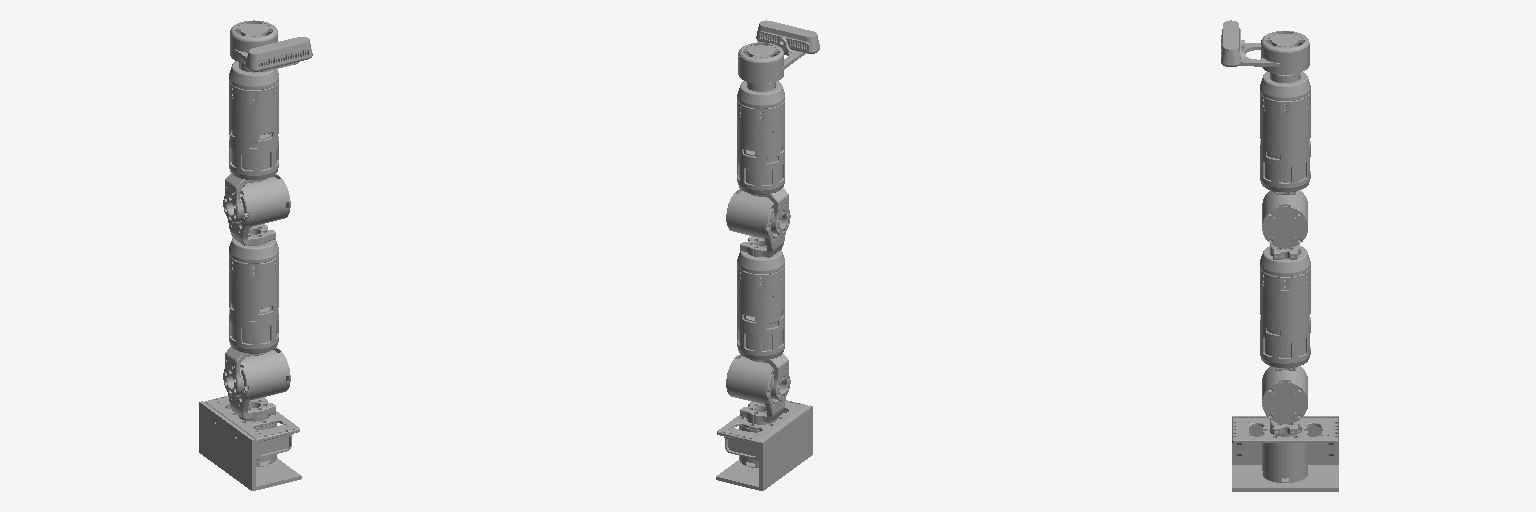
URDF robot description (superarm_j1_j2):
<?xml version='1.0' encoding='utf-8'?>
<robot name="superarm_j1_j2">
  <material name="silver">
    <color rgba="0.700 0.700 0.700 1.000" />
  </material>
  <link name="base_link">
    <inertial>
      <origin rpy="0 0 0" xyz="-0.0558674021870757 0.28278890754312125 0.028709994821850306" />
      <mass value="0.7039445905990487" />
      <inertia ixx="0.001356" ixy="0.0" ixz="0.000203" iyy="0.00068" iyz="-0.0" izz="0.001369" />
    </inertial>
    <visual>
      <origin rpy="0 0 0" xyz="0 0 0" />
      <geometry>
        <mesh filename="meshes/base_link.stl" scale="0.001 0.001 0.001" />
      </geometry>
      <material name="silver" />
    </visual>
    <collision>
      <origin rpy="0 0 0" xyz="0 0 0" />
      <geometry>
        <mesh filename="meshes/base_link.stl" scale="0.001 0.001 0.001" />
      </geometry>
    </collision>
  </link>
  <link name="arm_link5">
    <inertial>
      <origin rpy="0 0 0" xyz="-0.010582096735445613 -1.2838723623120885e-07 0.02599163424978511" />
      <mass value="0.08293040148164792" />
      <inertia ixx="6.1e-05" ixy="0.0" ixz="1.7e-05" iyy="6.4e-05" iyz="0.0" izz="3.1e-05" />
    </inertial>
    <visual>
      <origin rpy="0 0 0" xyz="0.035112 -0.282649 -0.076269" />
      <geometry>
        <mesh filename="meshes/arm_link5.stl" scale="0.001 0.001 0.001" />
      </geometry>
      <material name="silver" />
    </visual>
    <collision>
      <origin rpy="0 0 0" xyz="0.035112 -0.282649 -0.076269" />
      <geometry>
        <mesh filename="meshes/arm_link5.stl" scale="0.001 0.001 0.001" />
      </geometry>
    </collision>
  </link>
  <link name="arm_link2">
    <inertial>
      <origin rpy="0 0 0" xyz="0.0037734834026437528 1.7321857116836537e-05 0.02410973385257012" />
      <mass value="0.0758319055106308" />
      <inertia ixx="4e-05" ixy="0.0" ixz="-1.6e-05" iyy="5e-05" iyz="0.0" izz="2.5e-05" />
    </inertial>
    <visual>
      <origin rpy="0 0 0" xyz="0.055112 -0.282649 -0.132269" />
      <geometry>
        <mesh filename="meshes/arm_link2.stl" scale="0.001 0.001 0.001" />
      </geometry>
      <material name="silver" />
    </visual>
    <collision>
      <origin rpy="0 0 0" xyz="0.055112 -0.282649 -0.132269" />
      <geometry>
        <mesh filename="meshes/arm_link2.stl" scale="0.001 0.001 0.001" />
      </geometry>
    </collision>
  </link>
  <link name="motor_3">
    <inertial>
      <origin rpy="0 0 0" xyz="-7.919796516621391e-05 -1.387684520626209e-07 0.026854961914072523" />
      <mass value="1.0147152606862302" />
      <inertia ixx="0.000431" ixy="-0.0" ixz="2e-06" iyy="0.000433" iyz="0.0" izz="0.000412" />
    </inertial>
    <visual>
      <origin rpy="0 0 0" xyz="0.035112 -0.282649 -0.182269" />
      <geometry>
        <mesh filename="meshes/motor_3.stl" scale="0.001 0.001 0.001" />
      </geometry>
      <material name="silver" />
    </visual>
    <collision>
      <origin rpy="0 0 0" xyz="0.035112 -0.282649 -0.182269" />
      <geometry>
        <mesh filename="meshes/motor_3.stl" scale="0.001 0.001 0.001" />
      </geometry>
    </collision>
  </link>
  <link name="arm_link3">
    <inertial>
      <origin rpy="0 0 0" xyz="0.021842495434319292 -0.012437597905729458 0.05021462218112094" />
      <mass value="0.15642869189670372" />
      <inertia ixx="0.000316" ixy="-1e-06" ixz="-0.0" iyy="0.000316" iyz="0.0" izz="0.000135" />
    </inertial>
    <visual>
      <origin rpy="0 0 0" xyz="0.056762 -0.295149 -0.184019" />
      <geometry>
        <mesh filename="meshes/arm_link3.stl" scale="0.001 0.001 0.001" />
      </geometry>
      <material name="silver" />
    </visual>
    <collision>
      <origin rpy="0 0 0" xyz="0.056762 -0.295149 -0.184019" />
      <geometry>
        <mesh filename="meshes/arm_link3.stl" scale="0.001 0.001 0.001" />
      </geometry>
    </collision>
  </link>
  <link name="arm_link4">
    <inertial>
      <origin rpy="0 0 0" xyz="2.2494327479860576e-07 -1.237867585102137e-07 0.003881813929405231" />
      <mass value="0.13491456772256888" />
      <inertia ixx="5.6e-05" ixy="0.0" ixz="-0.0" iyy="5.6e-05" iyz="-0.0" izz="8.4e-05" />
    </inertial>
    <visual>
      <origin rpy="0 0 0" xyz="0.035112 -0.282649 -0.301019" />
      <geometry>
        <mesh filename="meshes/arm_link4.stl" scale="0.001 0.001 0.001" />
      </geometry>
      <material name="silver" />
    </visual>
    <collision>
      <origin rpy="0 0 0" xyz="0.035112 -0.282649 -0.301019" />
      <geometry>
        <mesh filename="meshes/arm_link4.stl" scale="0.001 0.001 0.001" />
      </geometry>
    </collision>
  </link>
  <link name="arm_link2b">
    <inertial>
      <origin rpy="0 0 0" xyz="0.0037734834026424344 1.732185711655898e-05 0.02410973385257037" />
      <mass value="0.0758319055106308" />
      <inertia ixx="4e-05" ixy="0.0" ixz="-1.6e-05" iyy="5e-05" iyz="0.0" izz="2.5e-05" />
    </inertial>
    <visual>
      <origin rpy="0 0 0" xyz="0.055112 -0.282649 -0.371019" />
      <geometry>
        <mesh filename="meshes/arm_link2b.stl" scale="0.001 0.001 0.001" />
      </geometry>
      <material name="silver" />
    </visual>
    <collision>
      <origin rpy="0 0 0" xyz="0.055112 -0.282649 -0.371019" />
      <geometry>
        <mesh filename="meshes/arm_link2b.stl" scale="0.001 0.001 0.001" />
      </geometry>
    </collision>
  </link>
  <link name="arm_link3b">
    <inertial>
      <origin rpy="0 0 0" xyz="0.00019249543431895666 -0.024937597905729192 0.05021462218112105" />
      <mass value="0.15642869189670372" />
      <inertia ixx="0.000316" ixy="-1e-06" ixz="-0.0" iyy="0.000316" iyz="0.0" izz="0.000135" />
    </inertial>
    <visual>
      <origin rpy="0 0 0" xyz="0.035112 -0.307649 -0.422769" />
      <geometry>
        <mesh filename="meshes/arm_link3b.stl" scale="0.001 0.001 0.001" />
      </geometry>
      <material name="silver" />
    </visual>
    <collision>
      <origin rpy="0 0 0" xyz="0.035112 -0.307649 -0.422769" />
      <geometry>
        <mesh filename="meshes/arm_link3b.stl" scale="0.001 0.001 0.001" />
      </geometry>
    </collision>
  </link>
  <link name="wrist_adapter_arm">
    <inertial>
      <origin rpy="0 0 0" xyz="0.006750224943071474 -0.011689222052984727 0.015439138057230184" />
      <mass value="0.058785239600396375" />
      <inertia ixx="1.2e-05" ixy="0.0" ixz="-0.0" iyy="1.2e-05" iyz="-0.0" izz="8e-06" />
    </inertial>
    <visual>
      <origin rpy="0 0 0" xyz="0.041862 -0.29434 -0.553769" />
      <geometry>
        <mesh filename="meshes/wrist_adapter_arm.stl" scale="0.001 0.001 0.001" />
      </geometry>
      <material name="silver" />
    </visual>
    <collision>
      <origin rpy="0 0 0" xyz="0.041862 -0.29434 -0.553769" />
      <geometry>
        <mesh filename="meshes/wrist_adapter_arm.stl" scale="0.001 0.001 0.001" />
      </geometry>
    </collision>
  </link>
  <link name="wrist_adapter_hand">
    <inertial>
      <origin rpy="0 0 0" xyz="-0.00035222283540382177 -0.009255509672976558 -0.005647174678873101" />
      <mass value="0.47096546496663444" />
      <inertia ixx="0.000335" ixy="-7e-06" ixz="-0.0" iyy="0.000168" iyz="-1.3e-05" izz="0.000406" />
    </inertial>
    <visual>
      <origin rpy="0 0 0" xyz="0.035112 -0.282649 -0.597769" />
      <geometry>
        <mesh filename="meshes/wrist_adapter_hand.stl" scale="0.001 0.001 0.001" />
      </geometry>
      <material name="silver" />
    </visual>
    <collision>
      <origin rpy="0 0 0" xyz="0.035112 -0.282649 -0.597769" />
      <geometry>
        <mesh filename="meshes/wrist_adapter_hand.stl" scale="0.001 0.001 0.001" />
      </geometry>
    </collision>
  </link>
  <link name="camera_d435">
    <inertial>
      <origin rpy="0 0 0" xyz="-1.0611056350758041e-05 -0.01213830093591206 0.000978971196272549" />
      <mass value="0.10791100846586506" />
      <inertia ixx="1e-05" ixy="-0.0" ixz="0.0" iyy="7.2e-05" iyz="-0.0" izz="7.1e-05" />
    </inertial>
    <visual>
      <origin rpy="0 0 0" xyz="0.037324 -0.228233 -0.601312" />
      <geometry>
        <mesh filename="meshes/camera_d435.stl" scale="0.001 0.001 0.001" />
      </geometry>
      <material name="silver" />
    </visual>
    <collision>
      <origin rpy="0 0 0" xyz="0.037324 -0.228233 -0.601312" />
      <geometry>
        <mesh filename="meshes/camera_d435.stl" scale="0.001 0.001 0.001" />
      </geometry>
    </collision>
  </link>
  <link name="arm_link4b">
    <inertial>
      <origin rpy="0 0 0" xyz="2.2494327447247775e-07 -1.2378675845470255e-07 0.003881813929404787" />
      <mass value="0.13491456772256888" />
      <inertia ixx="5.6e-05" ixy="0.0" ixz="-0.0" iyy="5.6e-05" iyz="0.0" izz="8.4e-05" />
    </inertial>
    <visual>
      <origin rpy="0 0 0" xyz="0.035112 -0.282649 -0.539769" />
      <geometry>
        <mesh filename="meshes/arm_link4b.stl" scale="0.001 0.001 0.001" />
      </geometry>
      <material name="silver" />
    </visual>
    <collision>
      <origin rpy="0 0 0" xyz="0.035112 -0.282649 -0.539769" />
      <geometry>
        <mesh filename="meshes/arm_link4b.stl" scale="0.001 0.001 0.001" />
      </geometry>
    </collision>
  </link>
  <link name="shoulder_bracket">
    <inertial>
      <origin rpy="0 0 0" xyz="0.02145921382547282 -0.025300124434731286 0.0022904355856792763" />
      <mass value="0.15092994793789033" />
      <inertia ixx="0.000284" ixy="-0.0" ixz="-1.2e-05" iyy="8.2e-05" iyz="-0.0" izz="0.000341" />
    </inertial>
    <visual>
      <origin rpy="0 0 0" xyz="0.070612 -0.307949 -0.067399" />
      <geometry>
        <mesh filename="meshes/shoulder_bracket.stl" scale="0.001 0.001 0.001" />
      </geometry>
      <material name="silver" />
    </visual>
    <collision>
      <origin rpy="0 0 0" xyz="0.070612 -0.307949 -0.067399" />
      <geometry>
        <mesh filename="meshes/shoulder_bracket.stl" scale="0.001 0.001 0.001" />
      </geometry>
    </collision>
  </link>
  <link name="motor_1">
    <inertial>
      <origin rpy="0 0 0" xyz="-7.919796516620697e-05 -0.02500010880506459 -0.025105126957649535" />
      <mass value="1.0147152606862302" />
      <inertia ixx="0.000431" ixy="0.0" ixz="-2e-06" iyy="0.000433" iyz="0.0" izz="0.000412" />
    </inertial>
    <visual>
      <origin rpy="0 0 0" xyz="0.035112 -0.307649 -0.074519" />
      <geometry>
        <mesh filename="meshes/motor_1.stl" scale="0.001 0.001 0.001" />
      </geometry>
      <material name="silver" />
    </visual>
    <collision>
      <origin rpy="0 0 0" xyz="0.035112 -0.307649 -0.074519" />
      <geometry>
        <mesh filename="meshes/motor_1.stl" scale="0.001 0.001 0.001" />
      </geometry>
    </collision>
  </link>
  <link name="motor_2">
    <inertial>
      <origin rpy="0 0 0" xyz="0.02510526937894911 7.92991214960681e-05 -6.754009485021584e-08" />
      <mass value="1.0147152606862302" />
      <inertia ixx="0.000412" ixy="-2e-06" ixz="-0.0" iyy="0.000431" iyz="-0.0" izz="0.000433" />
    </inertial>
    <visual>
      <origin rpy="0 0 0" xyz="0.053362 -0.282649 -0.132269" />
      <geometry>
        <mesh filename="meshes/motor_2.stl" scale="0.001 0.001 0.001" />
      </geometry>
      <material name="silver" />
    </visual>
    <collision>
      <origin rpy="0 0 0" xyz="0.053362 -0.282649 -0.132269" />
      <geometry>
        <mesh filename="meshes/motor_2.stl" scale="0.001 0.001 0.001" />
      </geometry>
    </collision>
  </link>
  <link name="motor_4">
    <inertial>
      <origin rpy="0 0 0" xyz="0.025105269378948046 7.929912149584606e-05 -6.754009462817123e-08" />
      <mass value="1.0147152606862302" />
      <inertia ixx="0.000412" ixy="-2e-06" ixz="-0.0" iyy="0.000431" iyz="-0.0" izz="0.000433" />
    </inertial>
    <visual>
      <origin rpy="0 0 0" xyz="0.053362 -0.282649 -0.371019" />
      <geometry>
        <mesh filename="meshes/motor_4.stl" scale="0.001 0.001 0.001" />
      </geometry>
      <material name="silver" />
    </visual>
    <collision>
      <origin rpy="0 0 0" xyz="0.053362 -0.282649 -0.371019" />
      <geometry>
        <mesh filename="meshes/motor_4.stl" scale="0.001 0.001 0.001" />
      </geometry>
    </collision>
  </link>
  <link name="arm_link1">
    <inertial>
      <origin rpy="0 0 0" xyz="-0.010659096230618968 -1.2842071067664662e-07 0.02620218405510044" />
      <mass value="0.0823313390325165" />
      <inertia ixx="6e-05" ixy="0.0" ixz="1.7e-05" iyy="6.4e-05" iyz="0.0" izz="3.1e-05" />
    </inertial>
    <visual>
      <origin rpy="0 0 0" xyz="0.035112 -0.282649 -0.315019" />
      <geometry>
        <mesh filename="meshes/arm_link1.stl" scale="0.001 0.001 0.001" />
      </geometry>
      <material name="silver" />
    </visual>
    <collision>
      <origin rpy="0 0 0" xyz="0.035112 -0.282649 -0.315019" />
      <geometry>
        <mesh filename="meshes/arm_link1.stl" scale="0.001 0.001 0.001" />
      </geometry>
    </collision>
  </link>
  <link name="motor_5">
    <inertial>
      <origin rpy="0 0 0" xyz="-7.919796516758781e-05 -1.3876845245119895e-07 0.026854961914072495" />
      <mass value="1.0147152606862302" />
      <inertia ixx="0.000431" ixy="-0.0" ixz="2e-06" iyy="0.000433" iyz="0.0" izz="0.000412" />
    </inertial>
    <visual>
      <origin rpy="0 0 0" xyz="0.035112 -0.282649 -0.421019" />
      <geometry>
        <mesh filename="meshes/motor_5.stl" scale="0.001 0.001 0.001" />
      </geometry>
      <material name="silver" />
    </visual>
    <collision>
      <origin rpy="0 0 0" xyz="0.035112 -0.282649 -0.421019" />
      <geometry>
        <mesh filename="meshes/motor_5.stl" scale="0.001 0.001 0.001" />
      </geometry>
    </collision>
  </link>
  <joint name="joint_rev_1" type="revolute">
    <origin rpy="0 0 0" xyz="0.0 -0.025 0.00175" />
    <parent link="motor_1" />
    <child link="arm_link5" />
    <axis xyz="-0.0 0.0 1.0" />
    <limit lower="-3.197146562905317" upper="3.1033035782406344" effort="27.0" velocity="3.77" />
  </joint>
  <joint name="joint_rev_2" type="revolute">
    <origin rpy="0 0 0" xyz="-0.00175 0.0 0.0" />
    <parent link="motor_2" />
    <child link="arm_link2" />
    <axis xyz="-1.0 0.0 0.0" />
    <limit lower="-1.8345159075303288" upper="1.5022507057297627" effort="27.0" velocity="3.77" />
  </joint>
  <joint name="joint_rev_3" type="fixed">
    <origin rpy="0 0 0" xyz="0.02 0.0 0.05" />
    <parent link="arm_link2" />
    <child link="motor_3" />
  </joint>
  <joint name="joint_fix_22" type="fixed">
    <origin rpy="0 0 0" xyz="-0.02165 0.0125 0.00175" />
    <parent link="motor_3" />
    <child link="arm_link3" />
  </joint>
  <joint name="joint_fix_23" type="fixed">
    <origin rpy="0 0 0" xyz="0.02165 -0.0125 0.117" />
    <parent link="arm_link3" />
    <child link="arm_link4" />
  </joint>
  <joint name="joint_rev_4" type="fixed">
    <origin rpy="0 0 0" xyz="-0.00175 0.0 0.0" />
    <parent link="motor_4" />
    <child link="arm_link2b" />
  </joint>
  <joint name="joint_fix_28" type="fixed">
    <origin rpy="0 0 0" xyz="0.0 0.025 0.00175" />
    <parent link="motor_5" />
    <child link="arm_link3b" />
  </joint>
  <joint name="joint_fix_30" type="fixed">
    <origin rpy="0 0 0" xyz="-0.00675 0.011691 0.014" />
    <parent link="arm_link4b" />
    <child link="wrist_adapter_arm" />
  </joint>
  <joint name="joint_fix_31" type="fixed">
    <origin rpy="0 0 0" xyz="0.00675 -0.011691 0.044" />
    <parent link="wrist_adapter_arm" />
    <child link="wrist_adapter_hand" />
  </joint>
  <joint name="joint_fix_33" type="fixed">
    <origin rpy="0 0 0" xyz="-0.002212 -0.054416 0.003543" />
    <parent link="wrist_adapter_hand" />
    <child link="camera_d435" />
  </joint>
  <joint name="joint_fix_37" type="fixed">
    <origin rpy="0 0 0" xyz="0.0 -0.025 0.117" />
    <parent link="arm_link3b" />
    <child link="arm_link4b" />
  </joint>
  <joint name="joint_fix_38" type="fixed">
    <origin rpy="0 0 0" xyz="-0.070612 0.307949 0.067399" />
    <parent link="base_link" />
    <child link="shoulder_bracket" />
  </joint>
  <joint name="joint_fix_39" type="fixed">
    <origin rpy="0 0 0" xyz="0.0355 -0.0003 0.00712" />
    <parent link="shoulder_bracket" />
    <child link="motor_1" />
  </joint>
  <joint name="joint_fix_40" type="fixed">
    <origin rpy="0 0 0" xyz="-0.01825 0.0 0.056" />
    <parent link="arm_link5" />
    <child link="motor_2" />
  </joint>
  <joint name="joint_fix_41" type="fixed">
    <origin rpy="0 0 0" xyz="-0.01825 0.0 0.056" />
    <parent link="arm_link1" />
    <child link="motor_4" />
  </joint>
  <joint name="joint_fix_42" type="fixed">
    <origin rpy="0 0 0" xyz="0.0 0.0 0.014" />
    <parent link="arm_link4" />
    <child link="arm_link1" />
  </joint>
  <joint name="joint_fix_43" type="fixed">
    <origin rpy="0 0 0" xyz="0.02 0.0 0.05" />
    <parent link="arm_link2b" />
    <child link="motor_5" />
  </joint>
  <link name="hand_mount" />
  <joint name="hand_mount_fixed" type="fixed">
    <origin xyz="0 0 0" rpy="0 0 0" />
    <parent link="wrist_adapter_hand" />
    <child link="hand_mount" />
  </joint>
</robot>

--- Facts derived from the render (not from the file) ---
3 views of the same robot in one strip: view 1: azimuth 30°, elevation 25°; view 2: azimuth 150°, elevation 25°; view 3: azimuth 270°, elevation 25° (orthographic).
Model superarm_j1_j2 with 19 links and 18 joints (2 revolute, 16 fixed), rooted at base_link, posed every joint at zero.
Links seen in each view (by area): view 1: base_link, arm_link3, arm_link3b, shoulder_bracket, motor_2, motor_4, camera_d435, wrist_adapter_hand, arm_link5, arm_link1, arm_link4, arm_link4b (+4 smaller); view 2: arm_link3, arm_link3b, base_link, wrist_adapter_hand, shoulder_bracket, motor_2, motor_4, camera_d435, arm_link5, arm_link1, arm_link4b, arm_link4 (+2 smaller); view 3: arm_link3, arm_link3b, base_link, wrist_adapter_hand, shoulder_bracket, motor_4, motor_2, motor_1, arm_link4b, arm_link4, camera_d435.
Boxes of the visible links, left/top/right/bottom form: base_link: left=199, top=401, right=301, bottom=490; arm_link3: left=229, top=255, right=278, bottom=353; arm_link3b: left=229, top=82, right=278, bottom=179; shoulder_bracket: left=205, top=396, right=299, bottom=459; motor_2: left=243, top=348, right=290, bottom=399; motor_4: left=244, top=174, right=290, bottom=226; camera_d435: left=246, top=37, right=312, bottom=71; wrist_adapter_hand: left=230, top=20, right=298, bottom=71; arm_link5: left=228, top=361, right=275, bottom=421; arm_link1: left=228, top=187, right=275, bottom=245; arm_link4: left=229, top=238, right=278, bottom=273; arm_link4b: left=229, top=61, right=278, bottom=99; arm_link3: left=737, top=265, right=784, bottom=359; arm_link3b: left=737, top=100, right=784, bottom=194; base_link: left=716, top=405, right=812, bottom=490; wrist_adapter_hand: left=738, top=37, right=805, bottom=83; shoulder_bracket: left=717, top=400, right=807, bottom=461; motor_2: left=726, top=354, right=770, bottom=404; motor_4: left=726, top=189, right=770, bottom=238; camera_d435: left=756, top=20, right=819, bottom=53; arm_link5: left=740, top=367, right=785, bottom=424; arm_link1: left=740, top=201, right=785, bottom=257; arm_link4b: left=737, top=81, right=784, bottom=118; arm_link4: left=737, top=249, right=784, bottom=283; arm_link3: left=1260, top=268, right=1310, bottom=367; arm_link3b: left=1260, top=92, right=1310, bottom=192; base_link: left=1232, top=416, right=1338, bottom=491; wrist_adapter_hand: left=1239, top=31, right=1309, bottom=74; shoulder_bracket: left=1232, top=418, right=1337, bottom=456; motor_4: left=1262, top=191, right=1307, bottom=248; motor_2: left=1262, top=367, right=1307, bottom=423; motor_1: left=1262, top=430, right=1307, bottom=482; arm_link4b: left=1260, top=72, right=1310, bottom=111; arm_link4: left=1260, top=246, right=1310, bottom=286; camera_d435: left=1221, top=20, right=1240, bottom=66.
Size in the robot's own frame: 0.0907 by 0.1452 by 0.6052 metres.
Meshes: 18 distinct files referenced, 18 mesh visuals loaded (18 binary STL).
